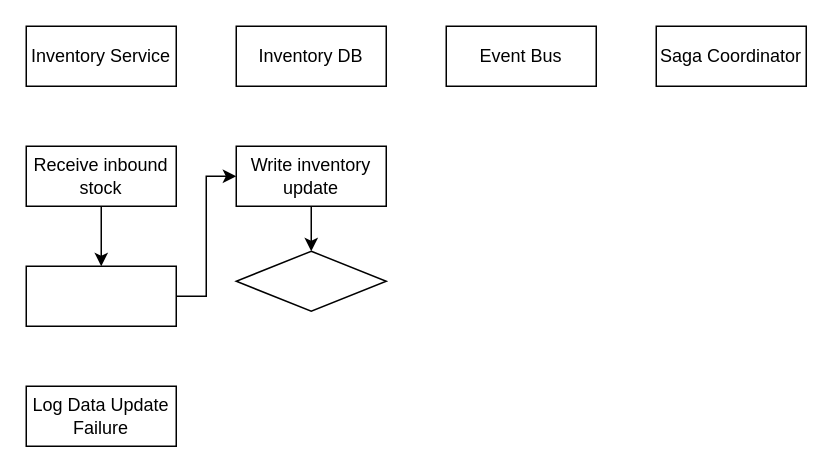
Some shapes in this 833 by 473 pixel diagram are drawn without their labels. The shapes that lost their labels are listed below. From the top down, each one's box as (x1, y1, x2, y2) in pixels, then its label:
(25, 265, 176, 326): Update stock levels
(235, 250, 386, 311): Successful?
